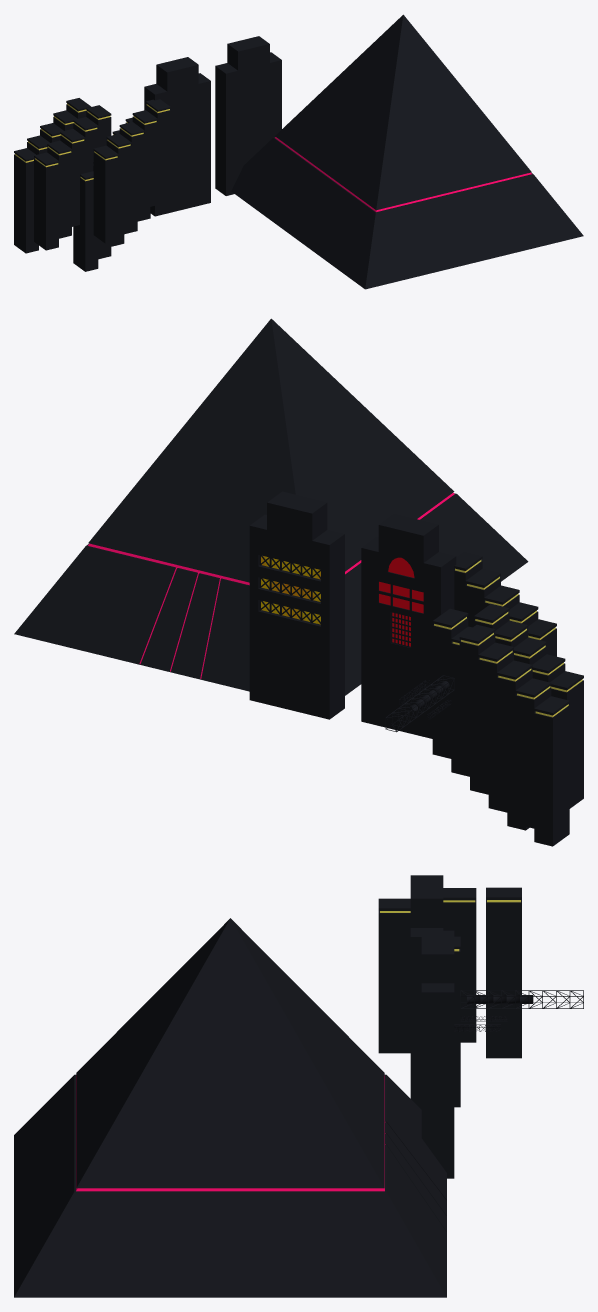
Rendered from test_decor_2.fbx.
3 views of the same model, one above another, from view 1: azimuth 30°, elevation 25°; view 2: azimuth 150°, elevation 25°; view 3: azimuth 270°, elevation 25° (orthographic). The views are drawn at different scales.
Parts seen in each view (by area): view 1: Cone.002, Cube.045, Cube.066, Cube.065, Cube.039; view 2: Cone.002, Cube.039, Cube.066, Cube.065, Cube.045, Cube.068, Cube.069; view 3: Cone.002, Cube.045, Cube.066, Cube.039, Cube.065, Cube.069, Cylinder.001.
Boxes of the visible parts, left/top/right/bottom form: Cone.002: left=231, top=14, right=583, bottom=289; Cube.045: left=34, top=99, right=170, bottom=250; Cube.066: left=215, top=36, right=281, bottom=195; Cube.065: left=144, top=57, right=210, bottom=216; Cube.039: left=14, top=98, right=150, bottom=271; Cone.002: left=14, top=318, right=528, bottom=695; Cube.039: left=432, top=608, right=569, bottom=846; Cube.066: left=249, top=491, right=344, bottom=719; Cube.065: left=361, top=513, right=456, bottom=738; Cube.045: left=454, top=552, right=583, bottom=808; Cube.068: left=259, top=555, right=320, bottom=624; Cube.069: left=385, top=675, right=454, bottom=732; Cone.002: left=14, top=918, right=446, bottom=1297; Cube.045: left=378, top=888, right=476, bottom=1053; Cube.066: left=421, top=930, right=454, bottom=1178; Cube.039: left=454, top=887, right=521, bottom=1107; Cube.065: left=410, top=875, right=443, bottom=1109; Cube.069: left=460, top=990, right=583, bottom=1008; Cylinder.001: left=467, top=994, right=533, bottom=1004.
Bounding box in the file's own units: 13345 × 7662 × 10752.
